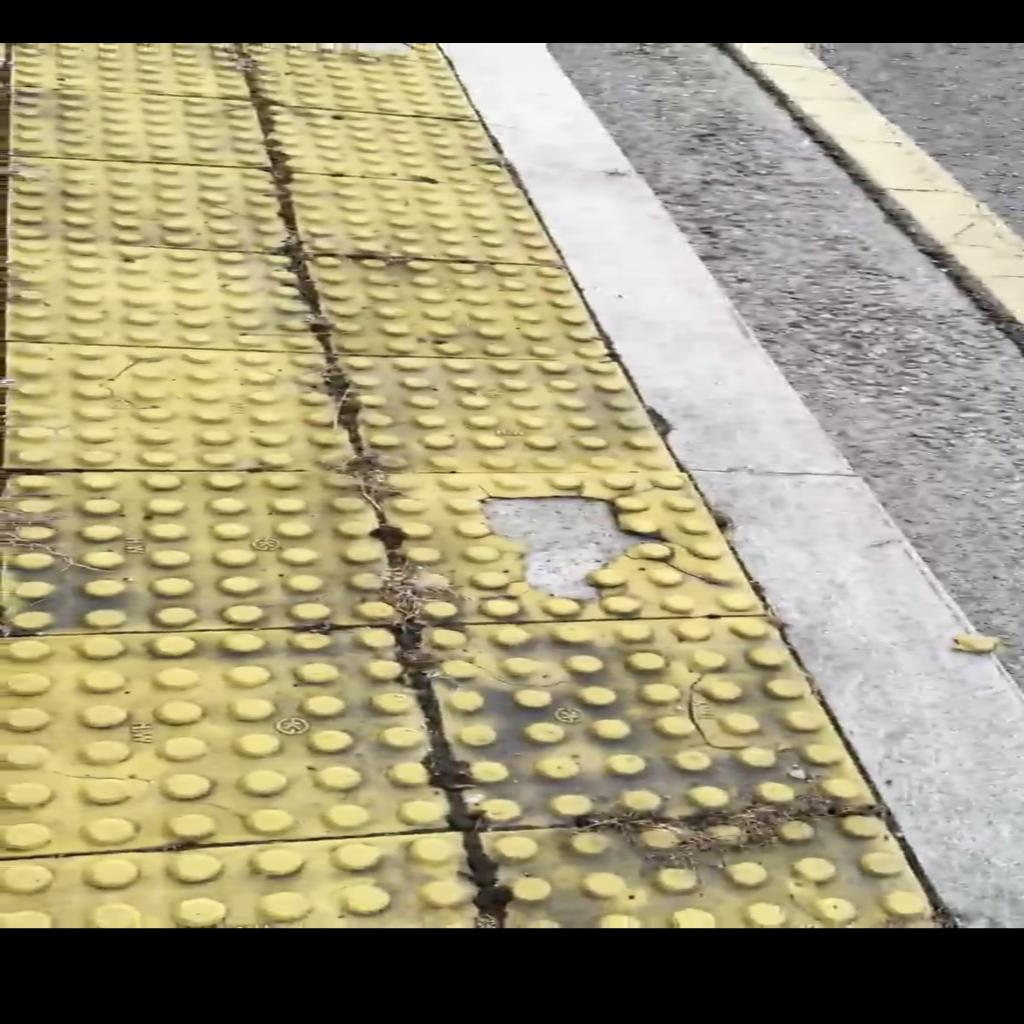Stop block broken: (378, 461, 765, 626)
Stop block normal: (2, 461, 400, 635), (6, 342, 352, 470), (337, 357, 677, 474), (5, 241, 326, 357), (303, 258, 614, 364)
